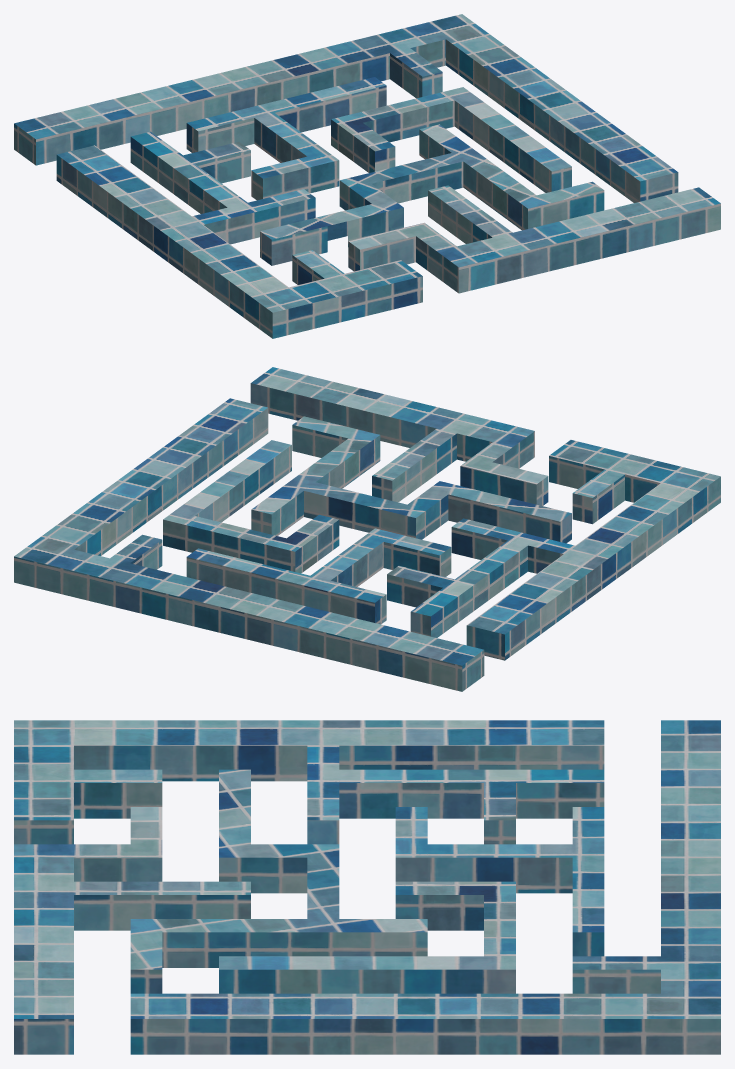
File: mazeSmall.fbx
The picture shows the model from 3 angles, top to bottom: view 1: azimuth 30°, elevation 25°; view 2: azimuth 150°, elevation 25°; view 3: azimuth 270°, elevation 25°; orthographic projection. The views are drawn at different scales.
Parts seen in each view (by area): view 1: Maze; view 2: Maze; view 3: Maze.
Part boxes in pixels (x1,y1,x2,y2): Maze: (14,14,720,338); Maze: (14,367,720,691); Maze: (14,720,720,1054).
Size of the model in its own units: 1000 by 55.81 by 1000.
